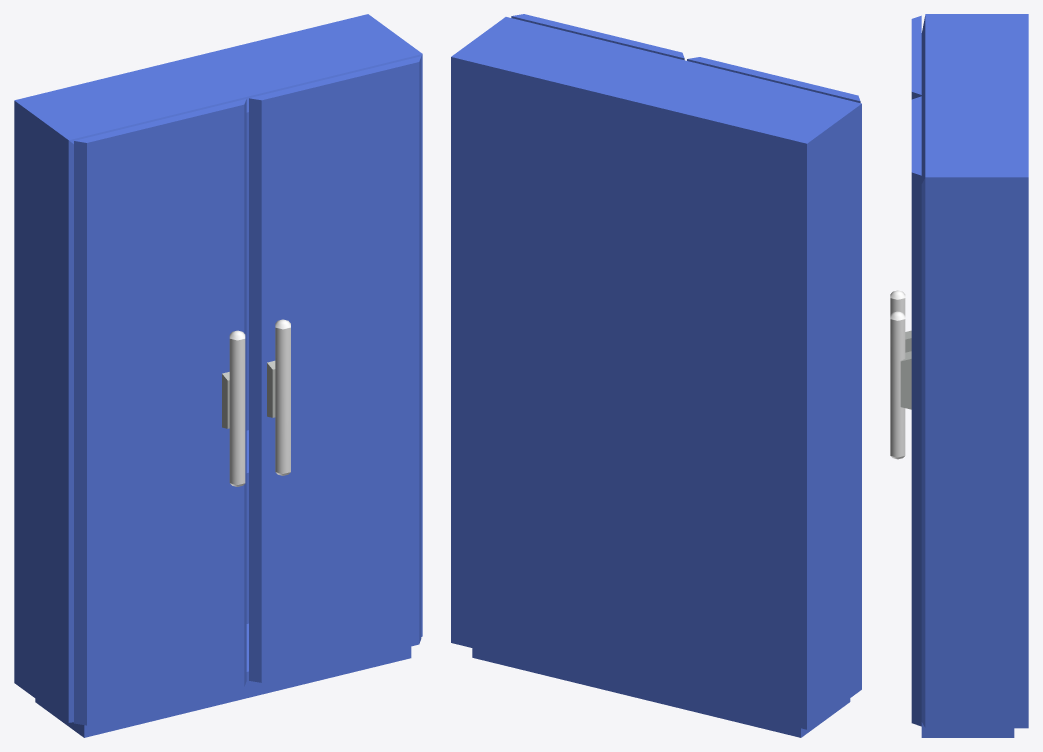
The model's file is locker3.fbx.
3 renders of one model, left to right at view 1: azimuth 30°, elevation 25°; view 2: azimuth 150°, elevation 25°; view 3: azimuth 270°, elevation 25°, orthographic. The views are drawn at different scales.
Parts seen in each view (by area): view 1: locker3; view 2: locker3; view 3: locker3.
Part boxes in pixels (x1,y1,x2,y2): locker3: (14, 14, 422, 737); locker3: (451, 14, 861, 737); locker3: (890, 14, 1028, 737).
Size of the model in its own units: 139 by 225 by 49.72.
1 material, 1 textured.
